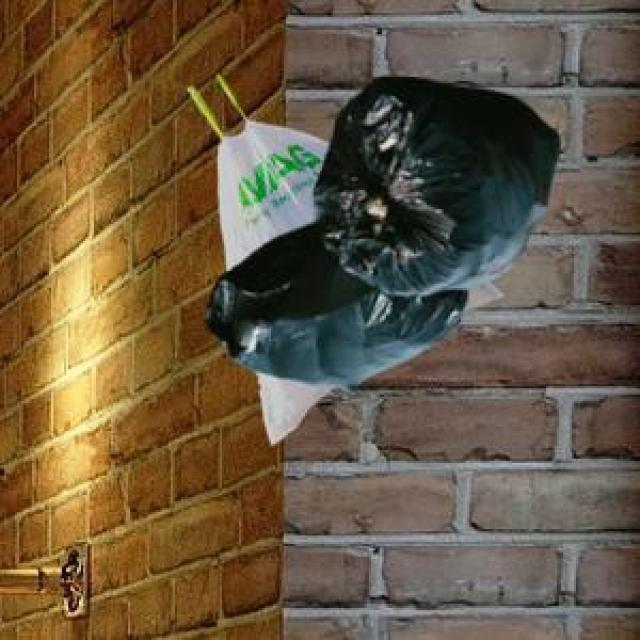miscellaneous trash: (203, 73, 555, 386)
